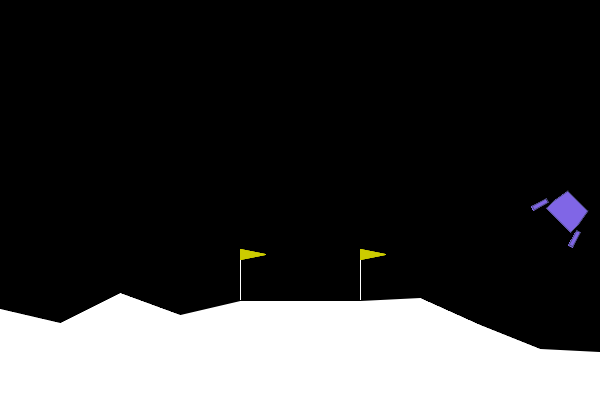lander: (529, 179, 600, 250)
